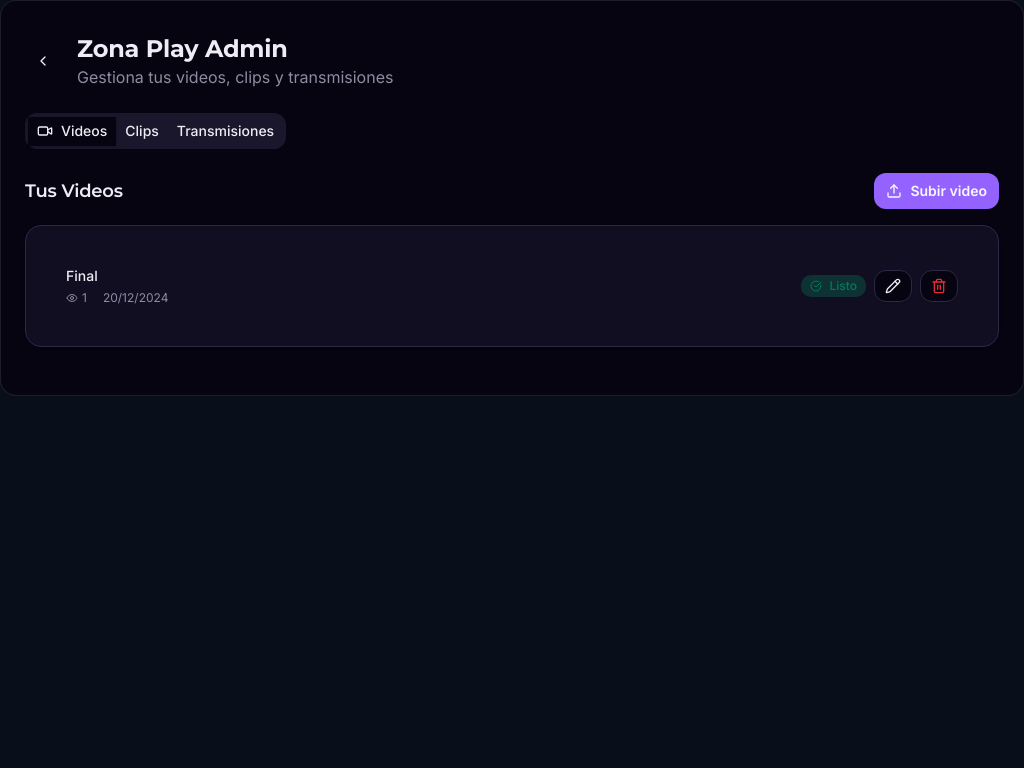
Test: AdminPage clips › requires a title and a video before posting
This screenshot has width=1024, height=768.
Click the tab "Clips" at (142, 131), box top-left (116, 116), bottom-right (168, 146)
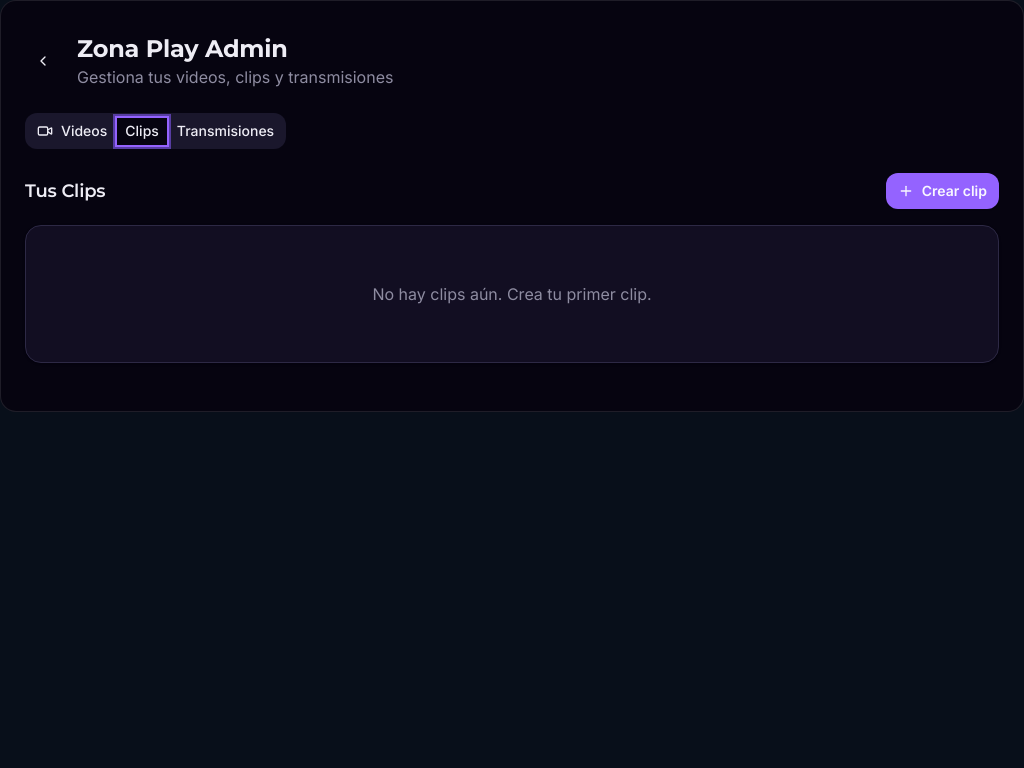
Click the button "Crear clip" at (942, 191), box top-left (886, 173), bottom-right (999, 209)
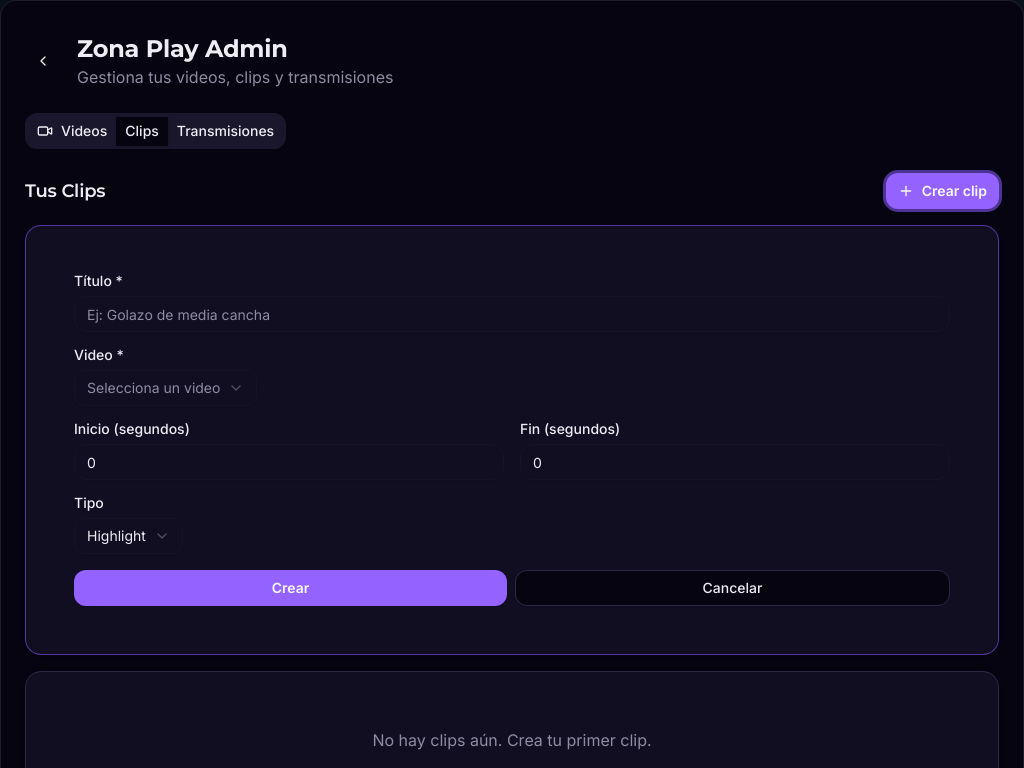
Click the button "Crear" at (290, 588), box top-left (74, 570), bottom-right (507, 606)
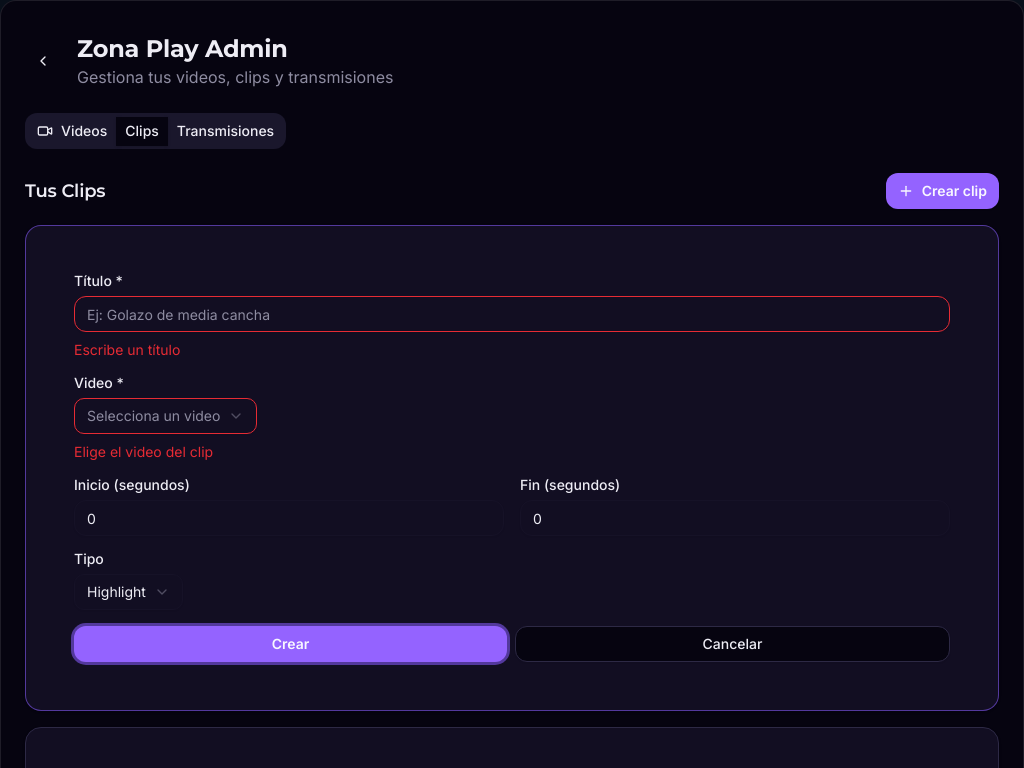
Check: the text "Elige el video del clip" is shown, box top-left (74, 443), bottom-right (213, 460)
